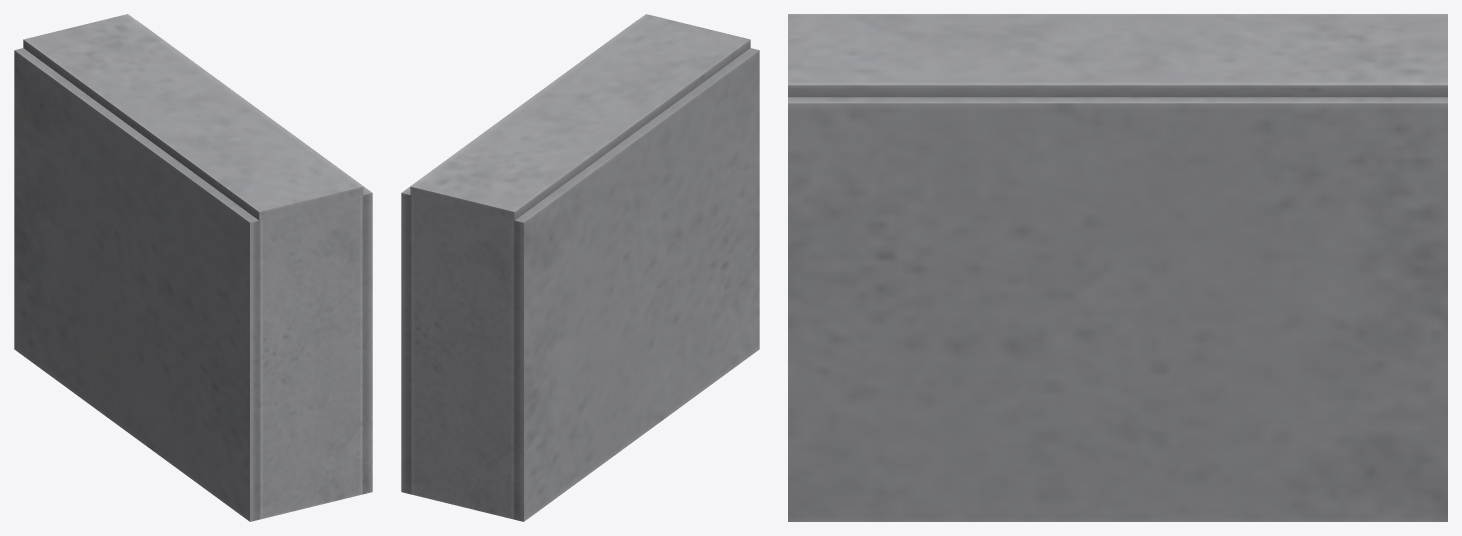
File: set_curb_straight_03.fbx
3 views of the same model, side by side, from view 1: azimuth 30°, elevation 25°; view 2: azimuth 150°, elevation 25°; view 3: azimuth 270°, elevation 25° (orthographic). The views are drawn at different scales.
Parts seen in each view (by area): view 1: set_curb_straight_03; view 2: set_curb_straight_03; view 3: set_curb_straight_03.
Part boxes in pixels (box(x1,y1,x2,y2)): set_curb_straight_03: box(14, 14, 372, 521); set_curb_straight_03: box(401, 14, 759, 521); set_curb_straight_03: box(788, 14, 1447, 521).
Bounding box in the file's own units: 30 × 72 × 100.
